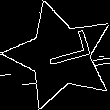L_W: (30, 34, 90, 78)
